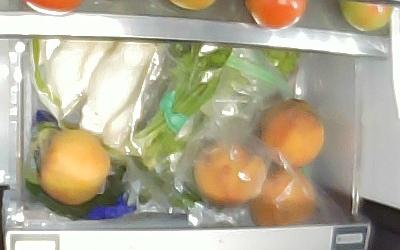peach: (39, 129, 111, 205), (261, 99, 325, 168)
peach_vinyl: (192, 139, 269, 204), (250, 165, 318, 226)
